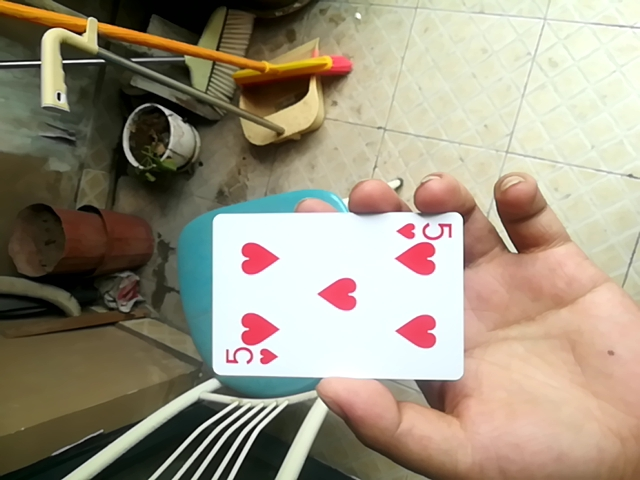hx 5: (203, 208, 462, 383)
